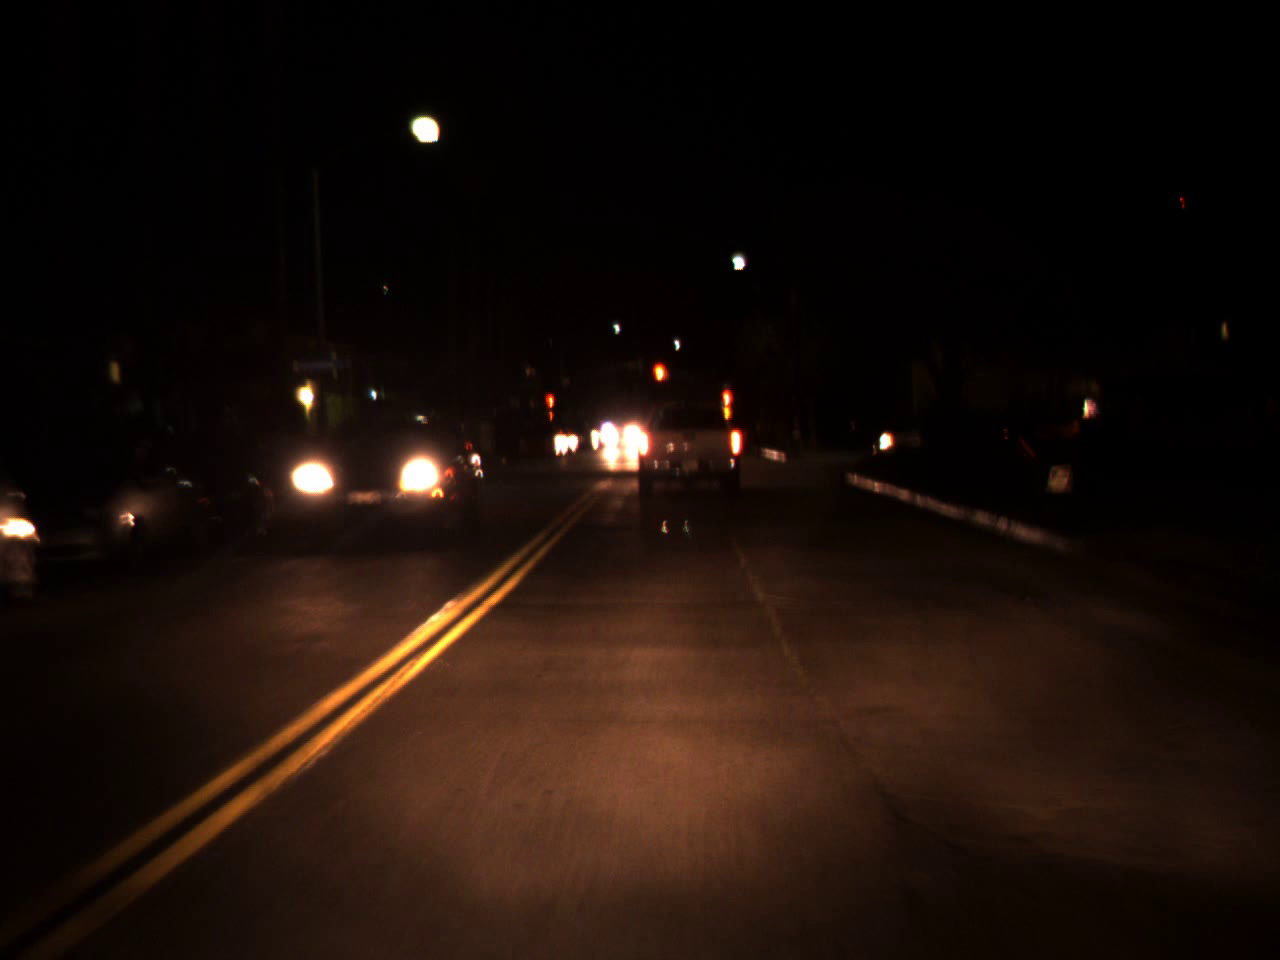stop: (651, 359, 669, 404), (544, 391, 556, 423), (720, 391, 732, 419)
